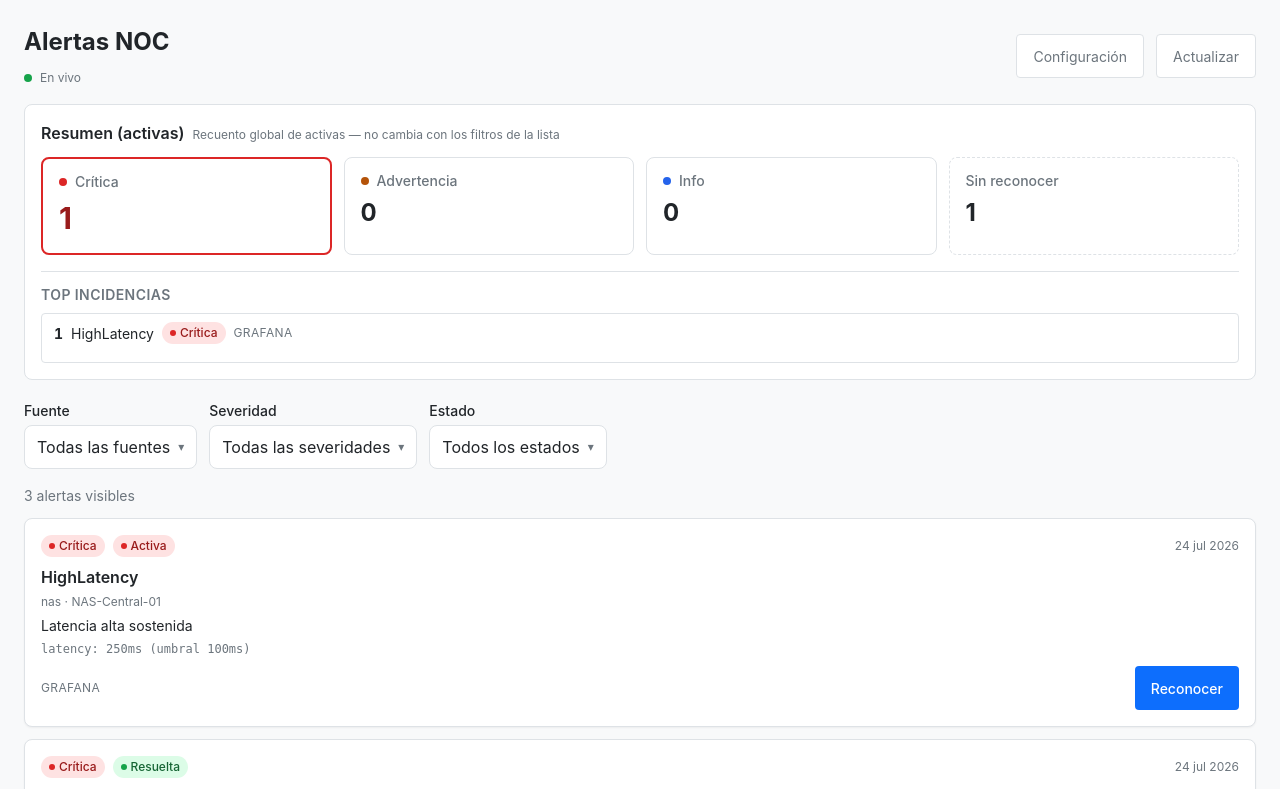
Test: ALP-9 severity summary tiles (global, unaffected by list filters) › MEDIO-1: the tile un-presses when the manual Estado filter no longer matches what the tile promises
The image size is (1280, 789).
Click the button "Crítica 1": (97, 182) x1=41 y1=157 x2=332 y2=255
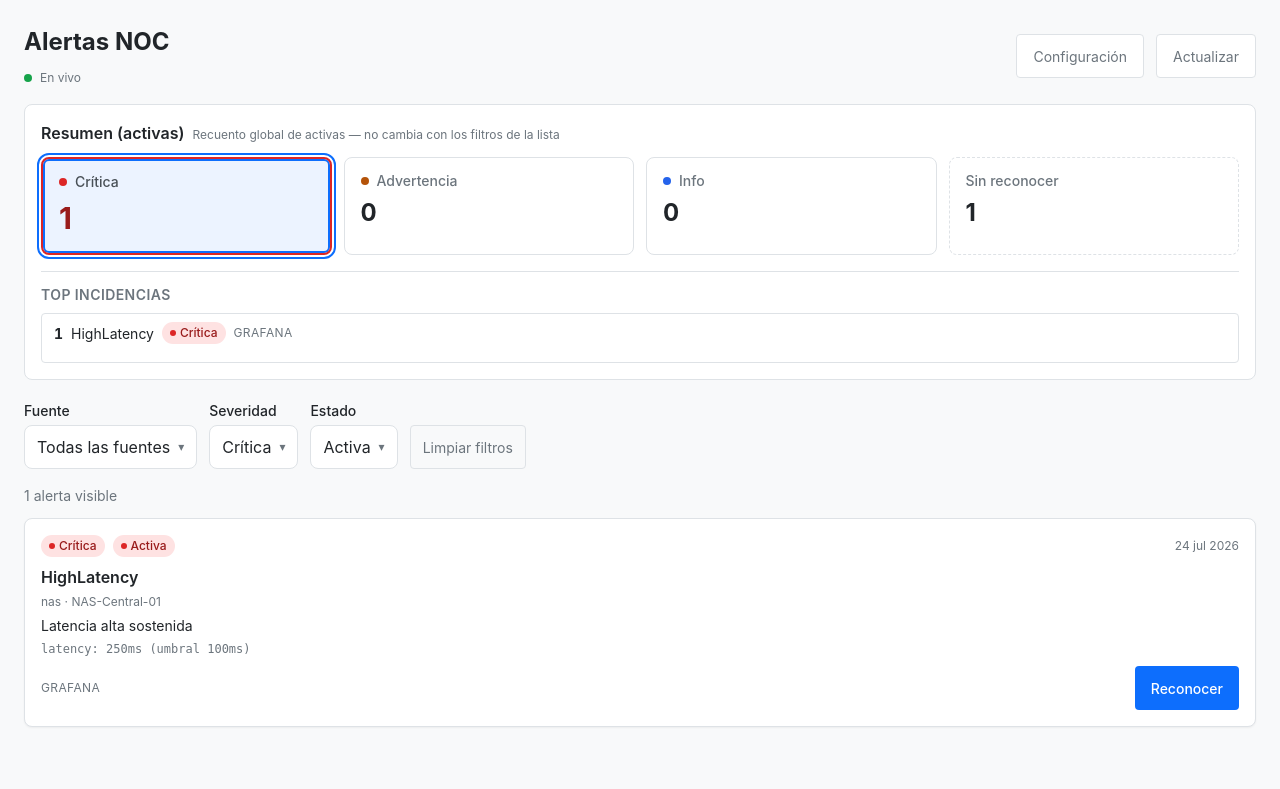
Expected: the text "1 alerta visible" is shown, x1=24 y1=487 x2=117 y2=504
Click the dropdown named "estado": (354, 447) x1=310 y1=425 x2=398 y2=469
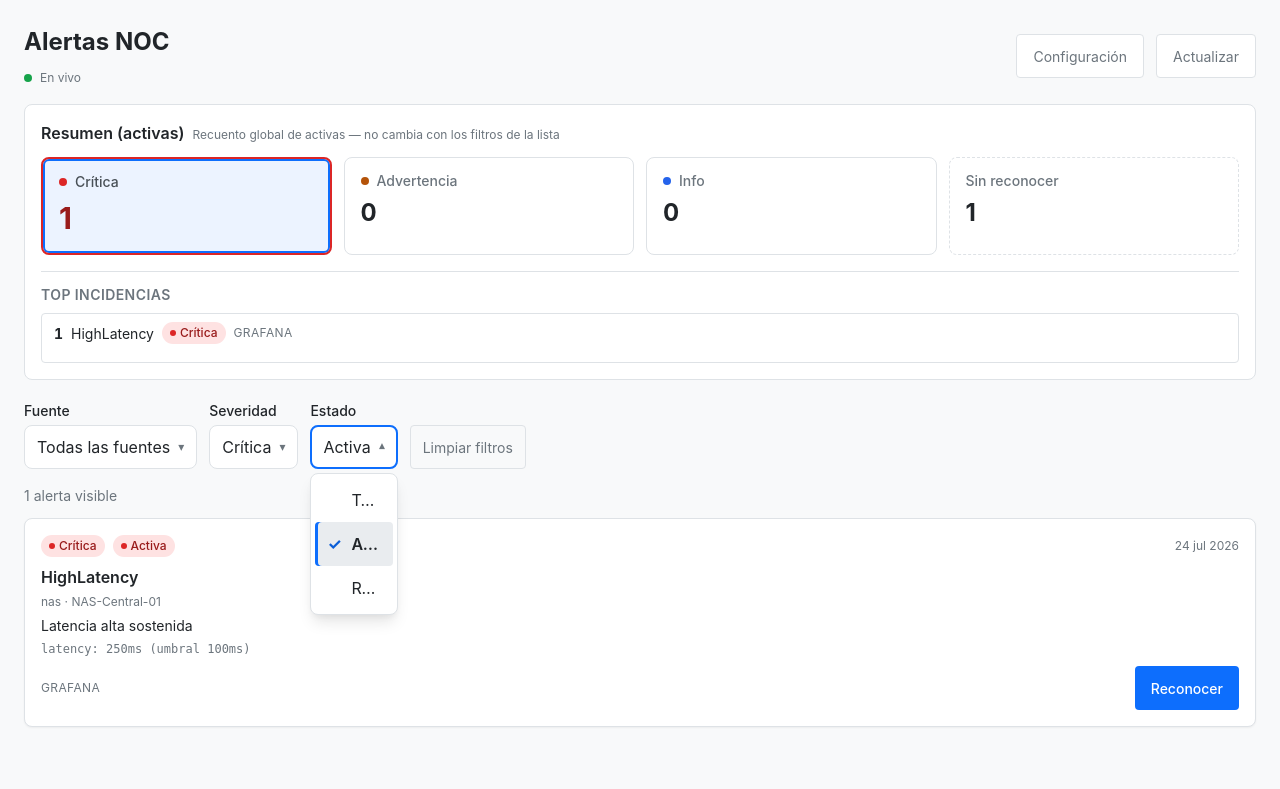
Click the option "Resuelta": (384, 588) x1=351 y1=578 x2=416 y2=598
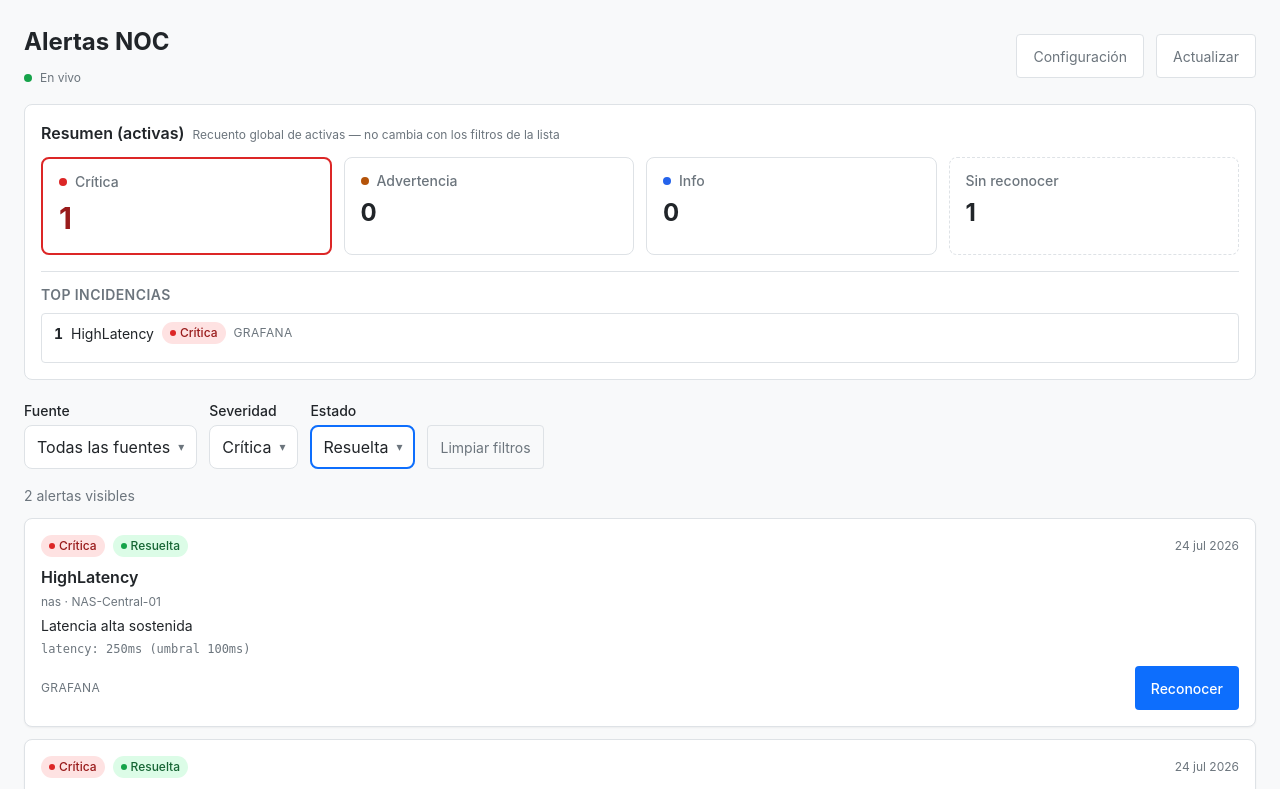
Expected: the text "2 alertas visibles" is shown, x1=24 y1=487 x2=135 y2=504
